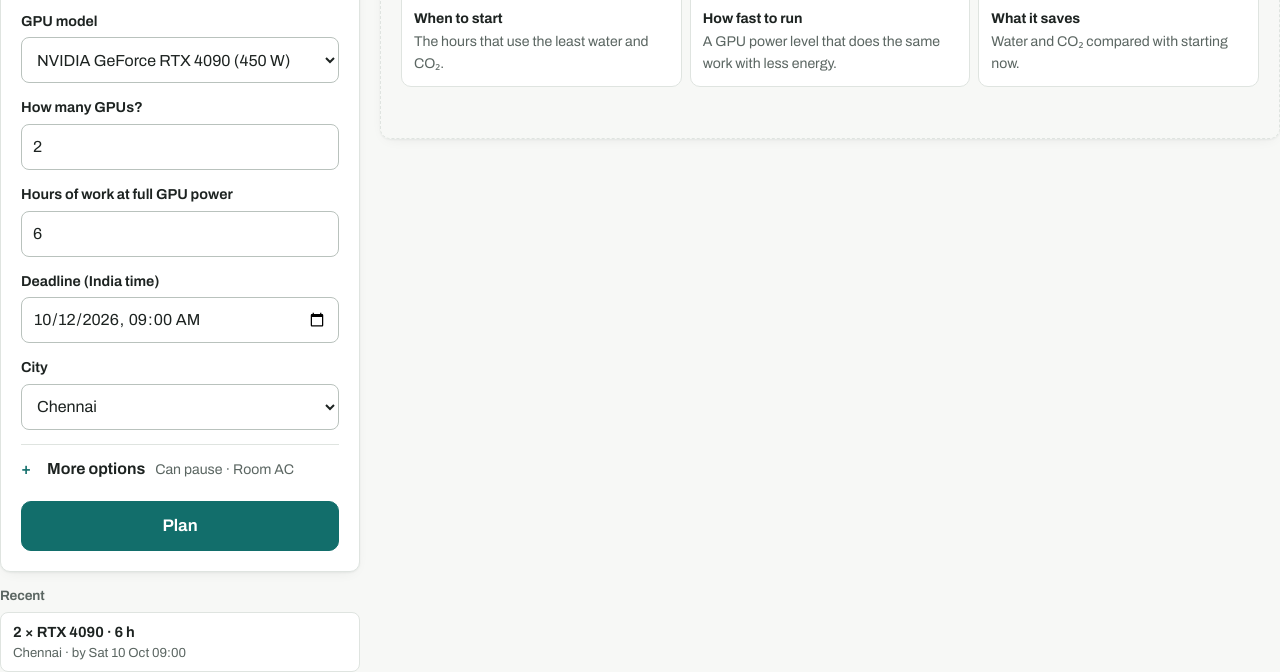
Test: PlanPage with a plan › shows the little-room copy when the plan says no_room
This screenshot has width=1280, height=672.
(page scrolled)
What coordinates should you click on to do the following:
click the button "Plan"
I would click on:
 (180, 526)
Its box is [21, 501, 339, 551].
(page scrolled)
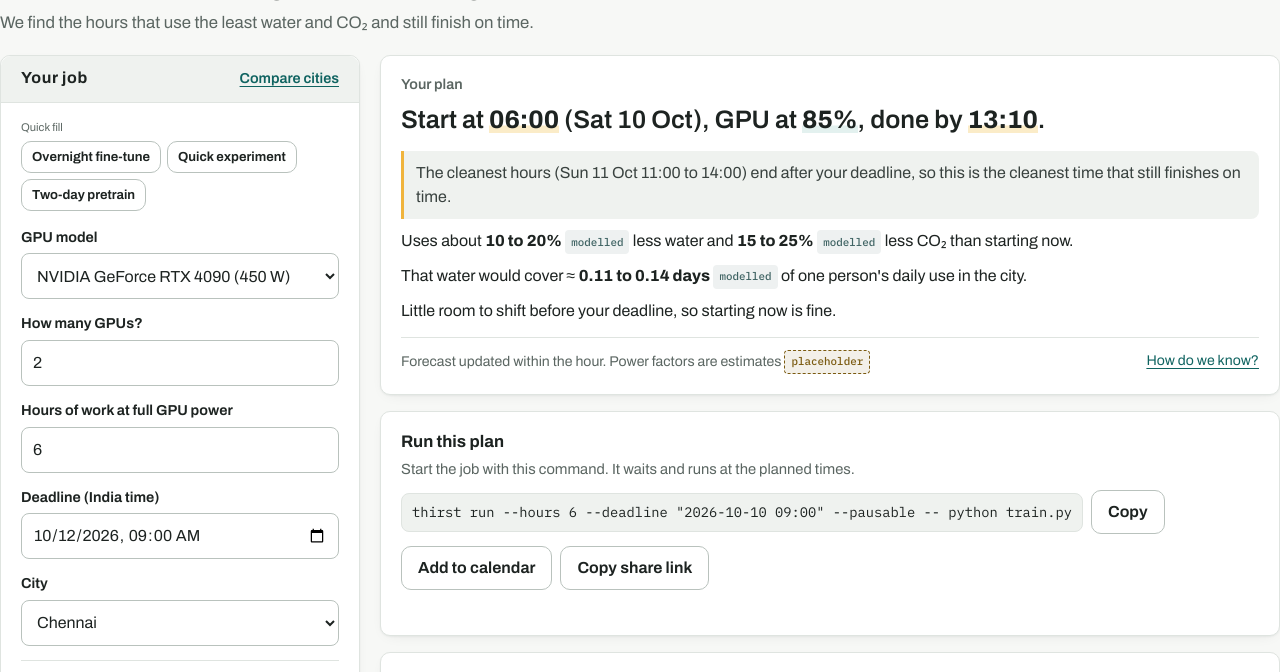
expect the element "Your plan" is shown: met, box [380, 55, 1279, 395]
expect the element "Your plan" shows "Little room to shift before your deadline, so starting now is fine.": met, box [401, 302, 836, 319]
